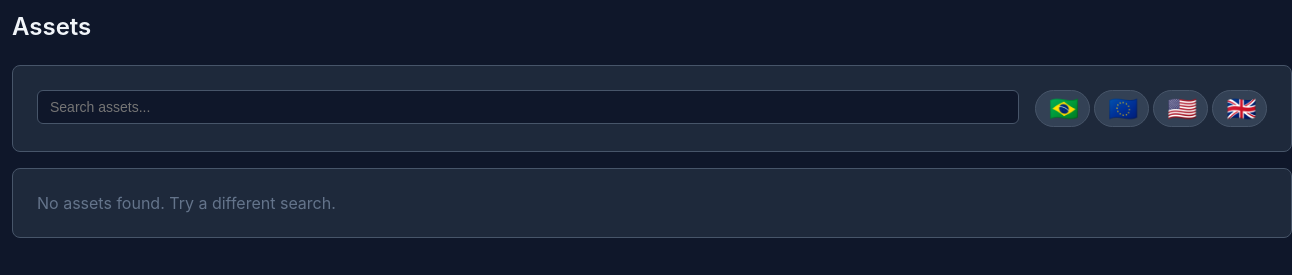
Scenario: AssetsView › falls back to exact lookup when the local search returns nothing
Step 1. Type "ALP1" into the field with placeholder "Search assets..." → (528, 107), box left=37, top=90, right=1018, bottom=124
Wait 300 ms
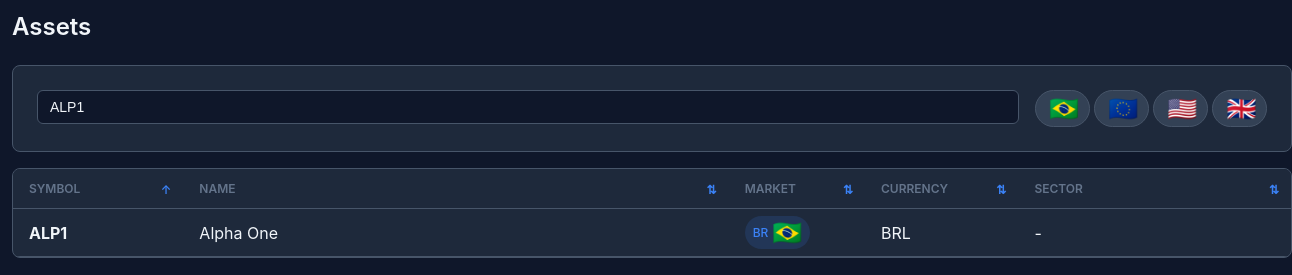
Result: the text "ALP1" is shown at left=29, top=223, right=67, bottom=243
Result: the text "Alpha One" is shown at left=183, top=209, right=729, bottom=257
